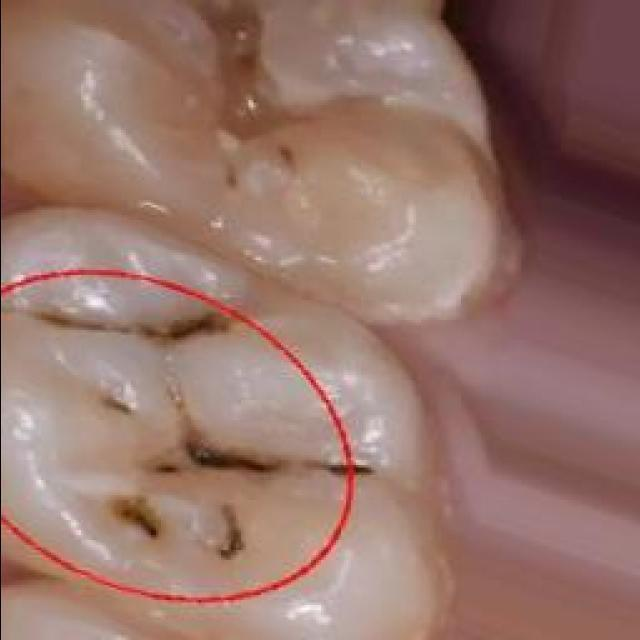caries: (28, 300, 318, 578)
